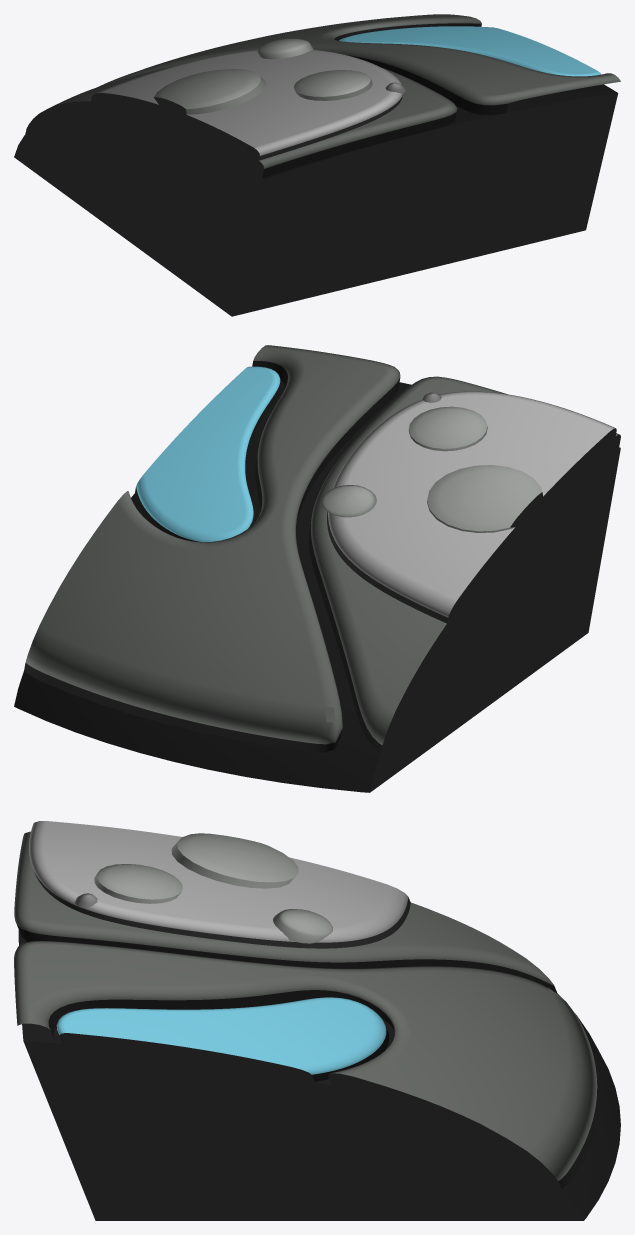
Rendered from eye_sphere_155.glb.
3 renders of one model, top to bottom at view 1: azimuth 30°, elevation 25°; view 2: azimuth 150°, elevation 25°; view 3: azimuth 270°, elevation 25°, orthographic. The views are drawn at different scales.
Visible parts, largest first — view 1: eye_sphere_155; view 2: eye_sphere_155; view 3: eye_sphere_155.
Part boxes in pixels (x1,y1,x2,y2): eye_sphere_155: (14, 14, 620, 316); eye_sphere_155: (14, 345, 620, 792); eye_sphere_155: (14, 821, 620, 1220).
Size of the model in its own units: 24 by 12.74 by 31.89.
